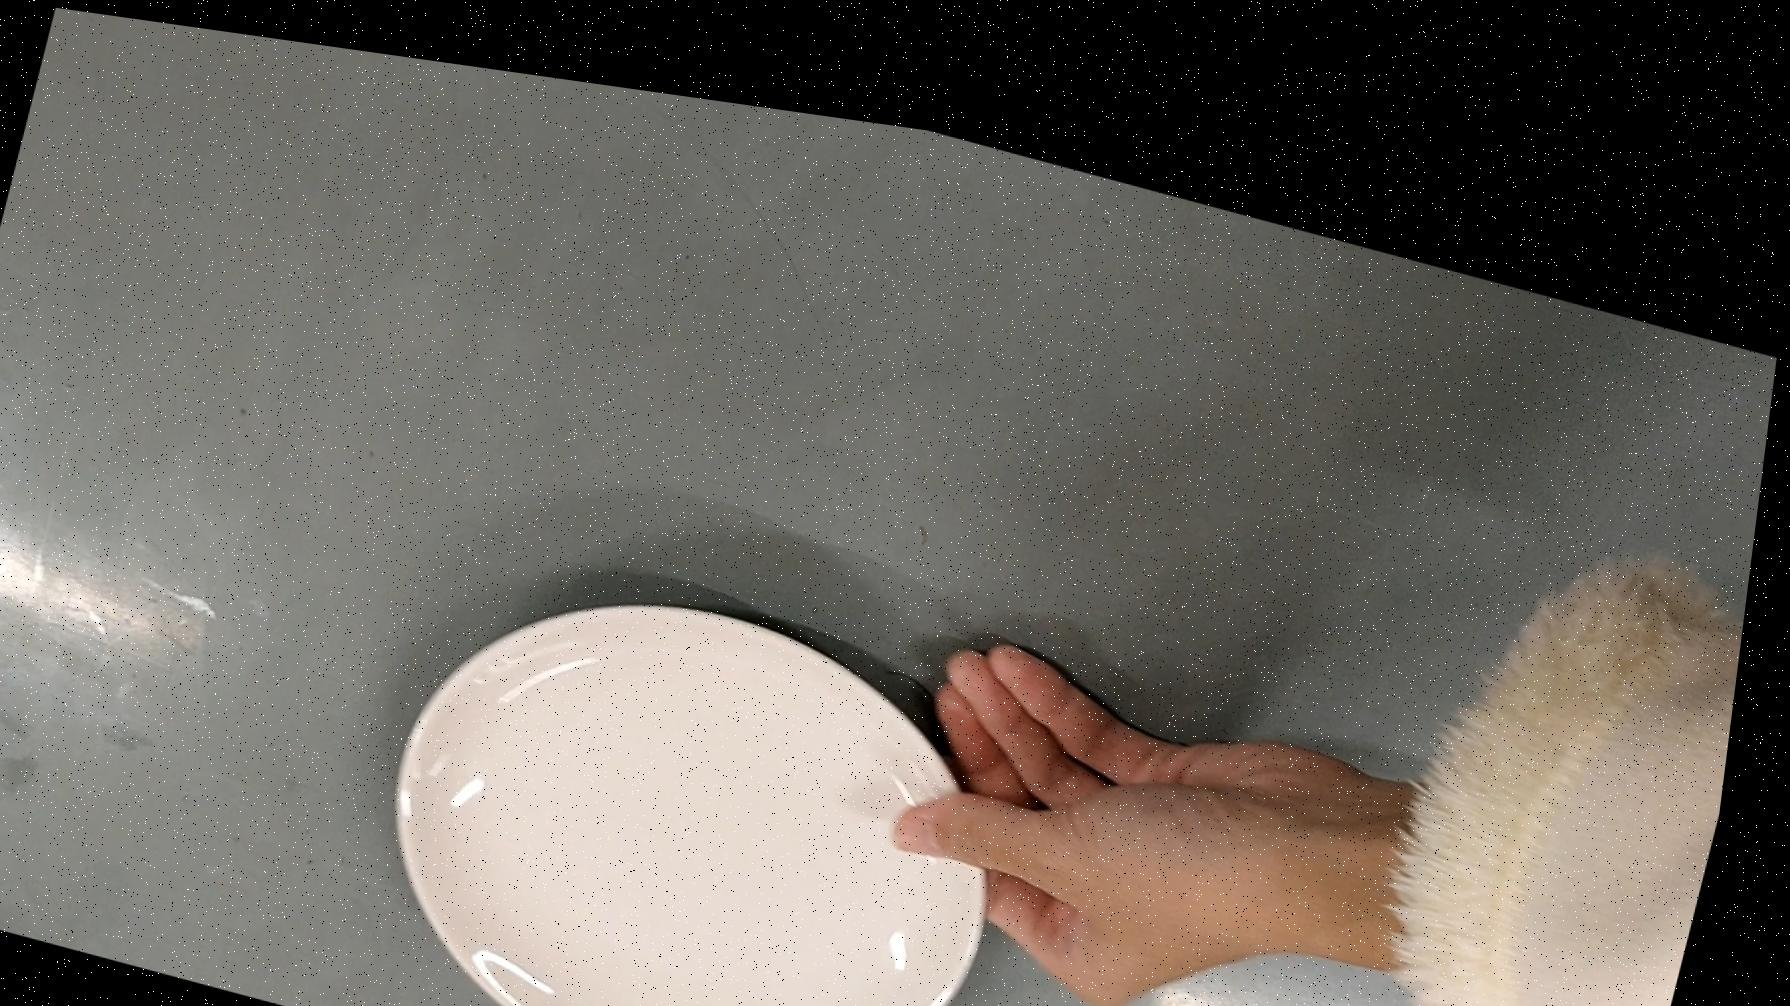plate: (358, 515, 1059, 1006)
